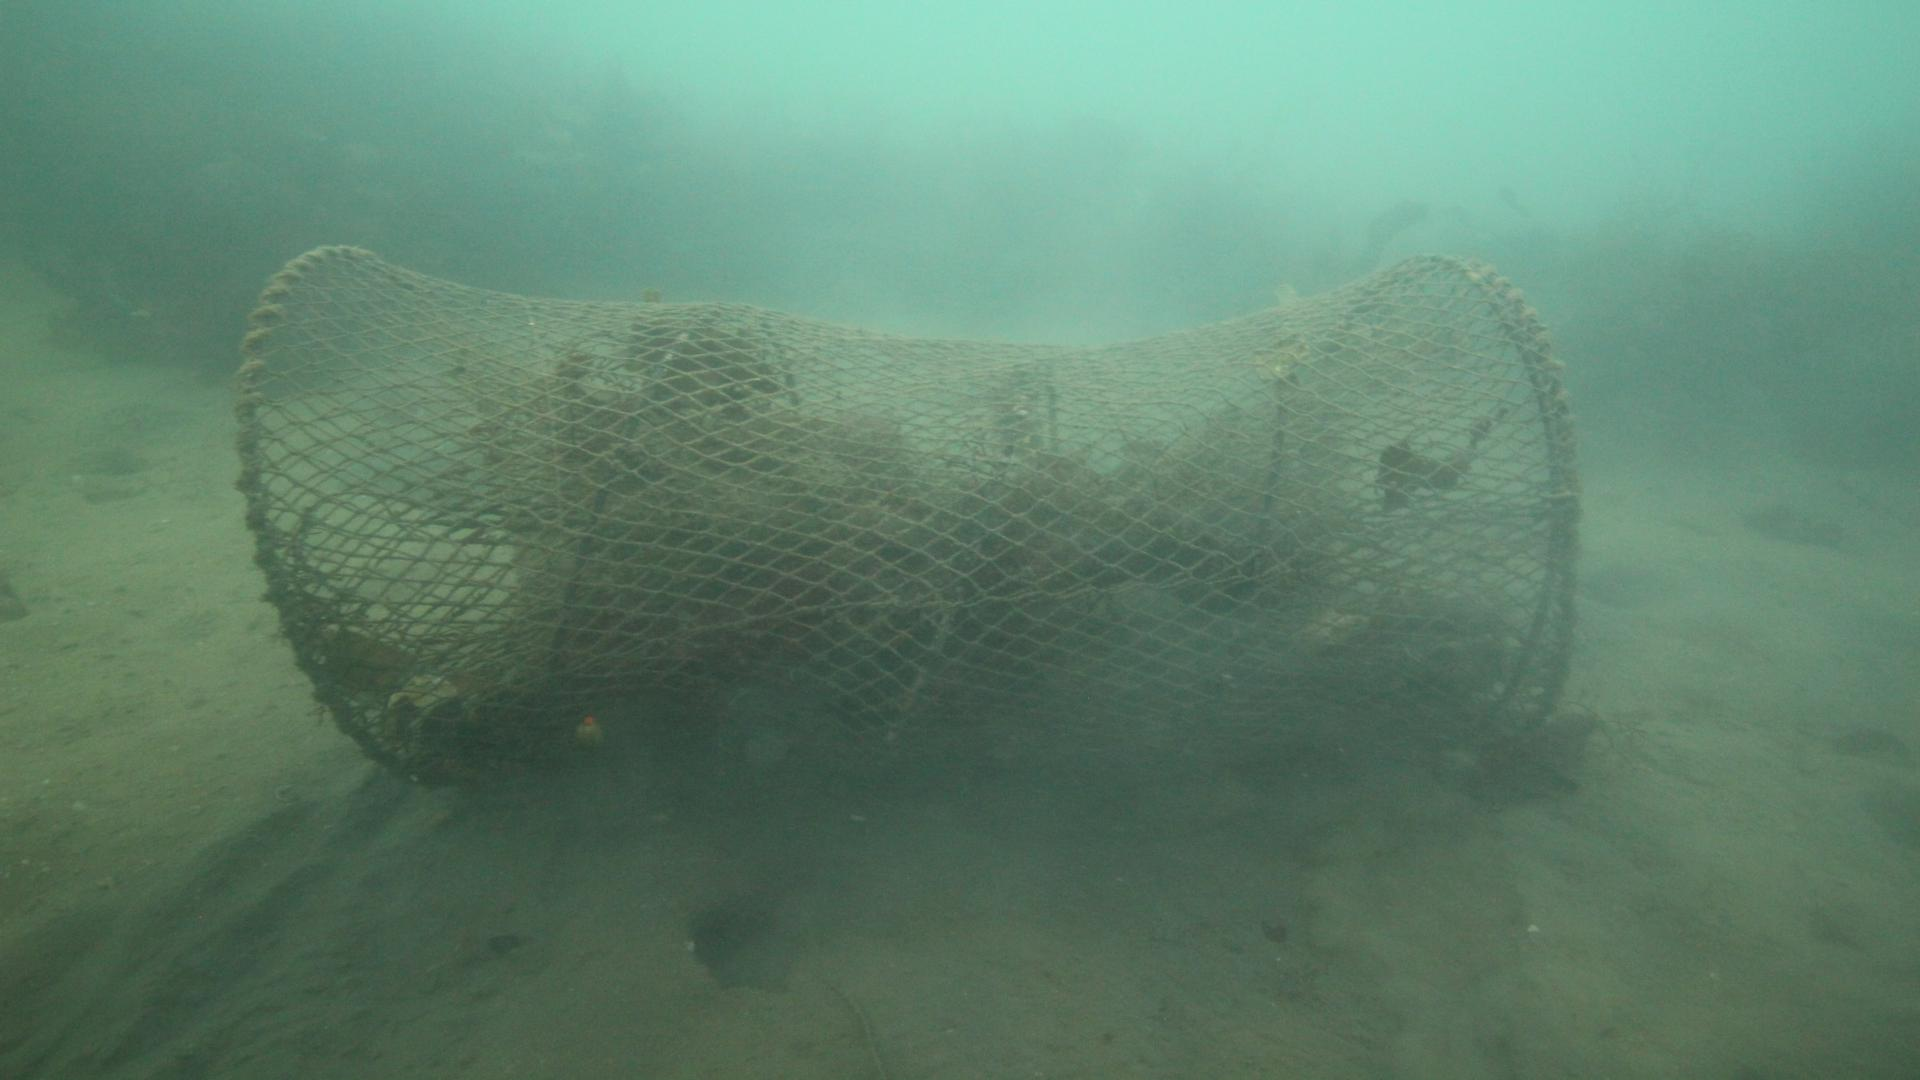spring fish trap: (232, 241, 1578, 787)
